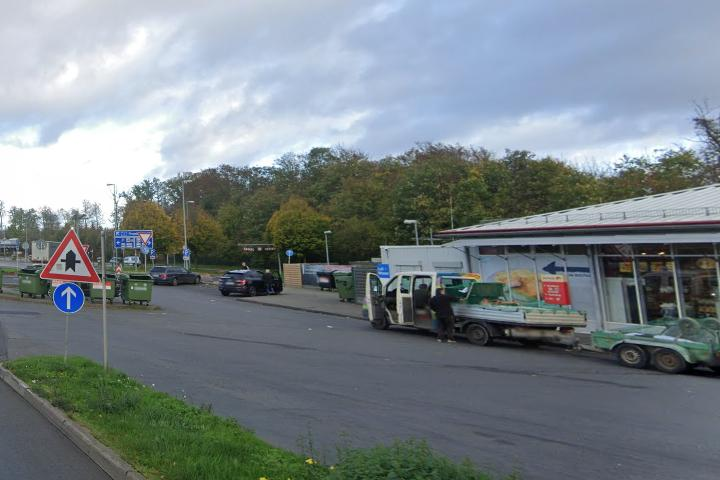traffic_sign: (37, 226, 101, 283), (52, 283, 86, 314), (139, 232, 152, 245)
vehicle: (353, 267, 591, 350), (216, 266, 287, 298), (147, 264, 202, 287)
